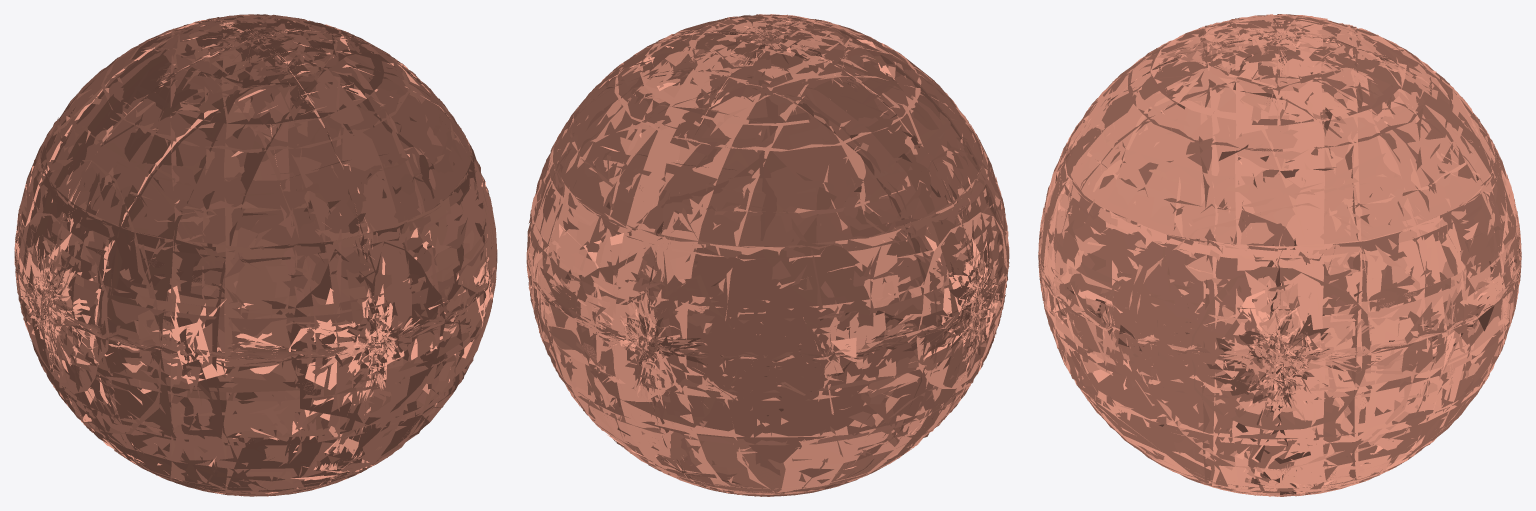
The model's file is sys-sd-telecom.glb.
3 views of the same model, side by side, from view 1: azimuth 30°, elevation 25°; view 2: azimuth 150°, elevation 25°; view 3: azimuth 270°, elevation 25° (orthographic).
Parts seen in each view (by area): view 1: TS-sd-telecom-1707, TS-sd-telecom-1706, TS-sd-telecom-1708; view 2: TS-sd-telecom-1707, TS-sd-telecom-1706, TS-sd-telecom-1708; view 3: TS-sd-telecom-1707, TS-sd-telecom-1706, TS-sd-telecom-1708.
Boxes of the visible parts, <box> form: TS-sd-telecom-1707: <box>14,14,497,496</box>; TS-sd-telecom-1706: <box>14,15,496,496</box>; TS-sd-telecom-1708: <box>14,18,497,493</box>; TS-sd-telecom-1707: <box>526,14,1009,496</box>; TS-sd-telecom-1706: <box>527,14,1007,496</box>; TS-sd-telecom-1708: <box>526,16,1009,492</box>; TS-sd-telecom-1707: <box>1038,14,1521,496</box>; TS-sd-telecom-1706: <box>1038,14,1521,496</box>; TS-sd-telecom-1708: <box>1038,14,1521,495</box>.
Bounding box in the file's own units: 2 × 2 × 2.
